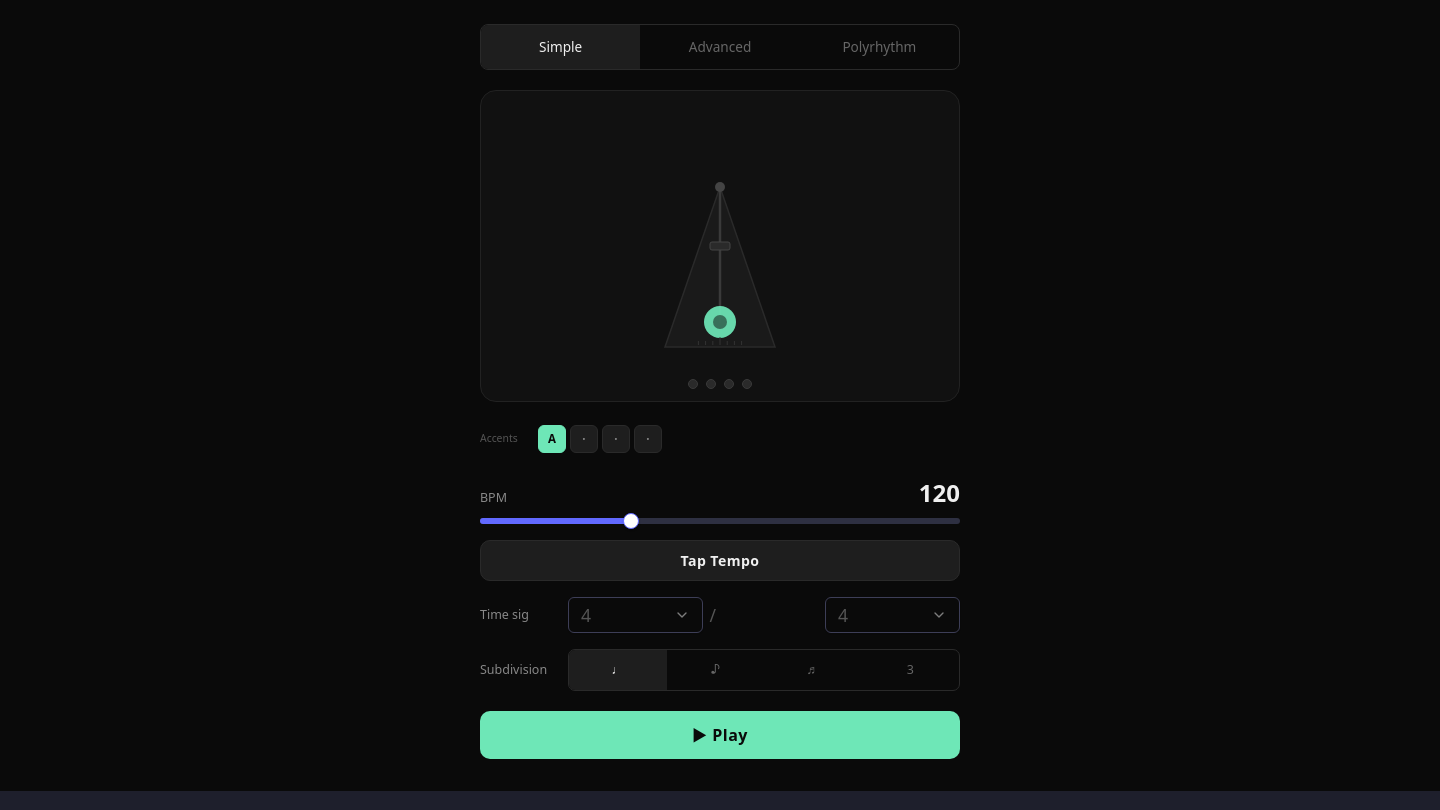
Test: MetronomePage – adding measures in Advanced mode › adds a second measure card after clicking Add Measure once
This screenshot has width=1440, height=810.
What coordinates should you click on to do the following:
click the button "Advanced"
I would click on:
 (720, 47)
Its box is [640,25,800,69].
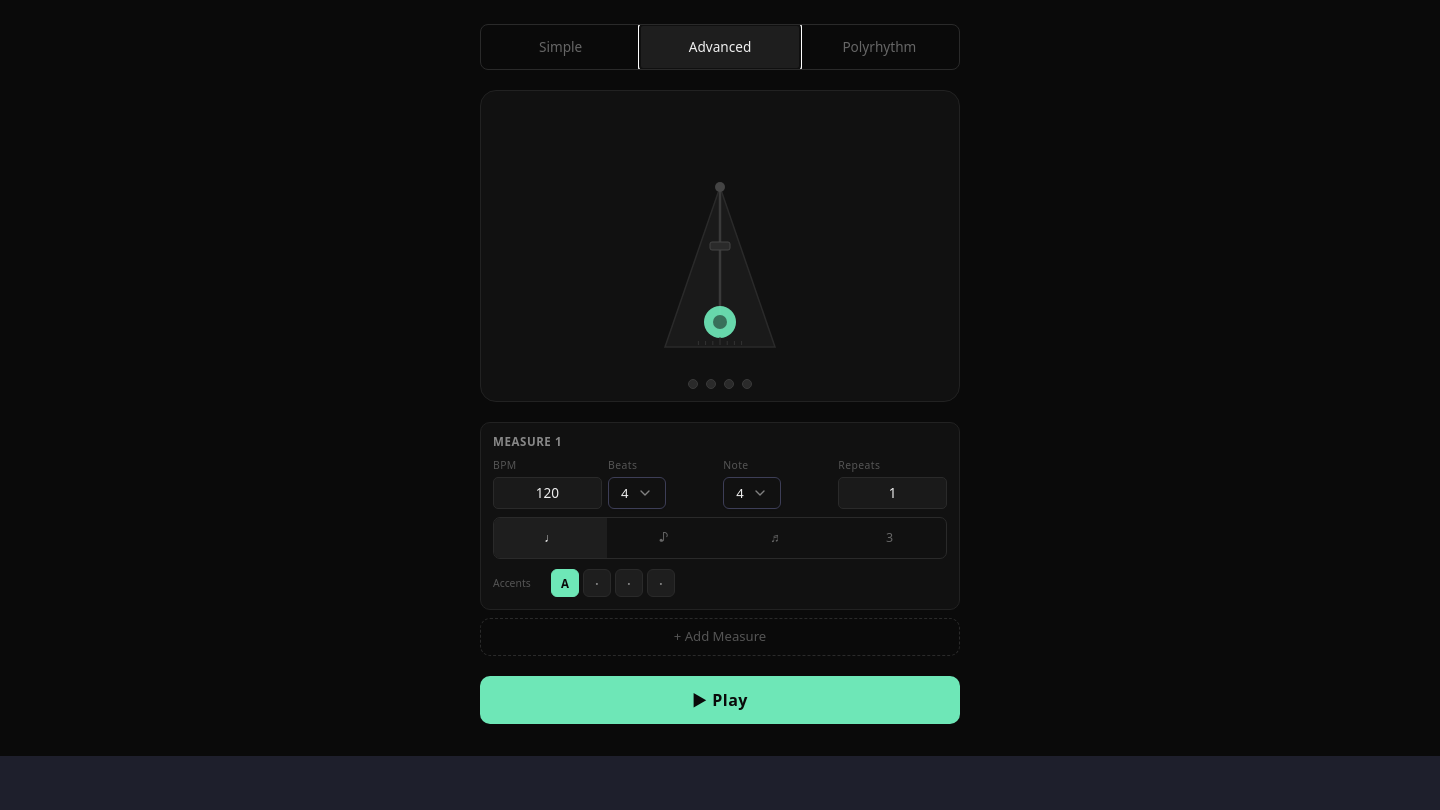
What coordinates should you click on to do the following:
click the button "+ Add Measure"
I would click on:
 (720, 637)
Its box is [480,618,960,656].
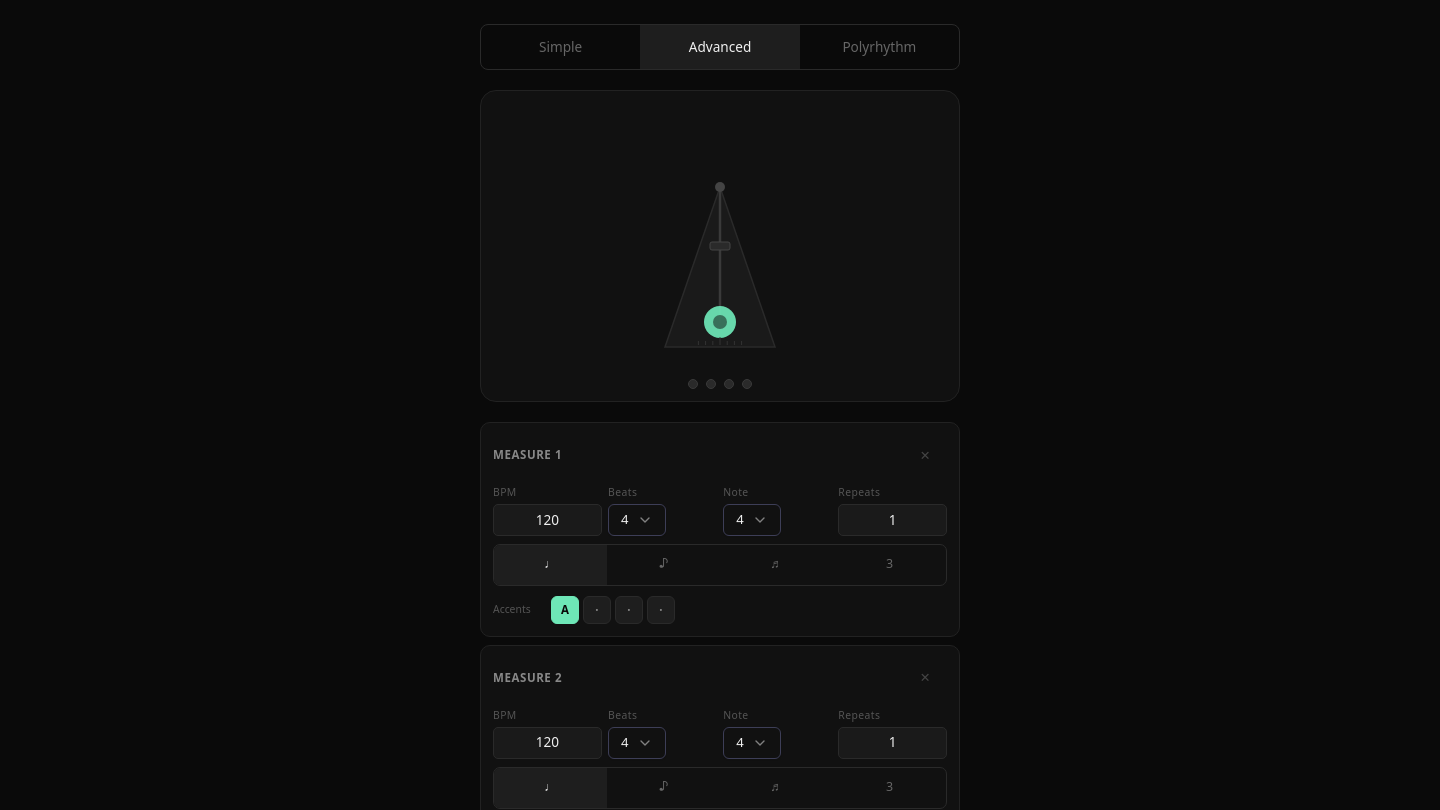
Now the text "Measure 1" is shown 2 times, box [493,446,562,464]; [493,669,562,686]
